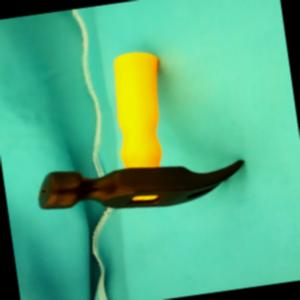martelo: (18, 38, 250, 226)
